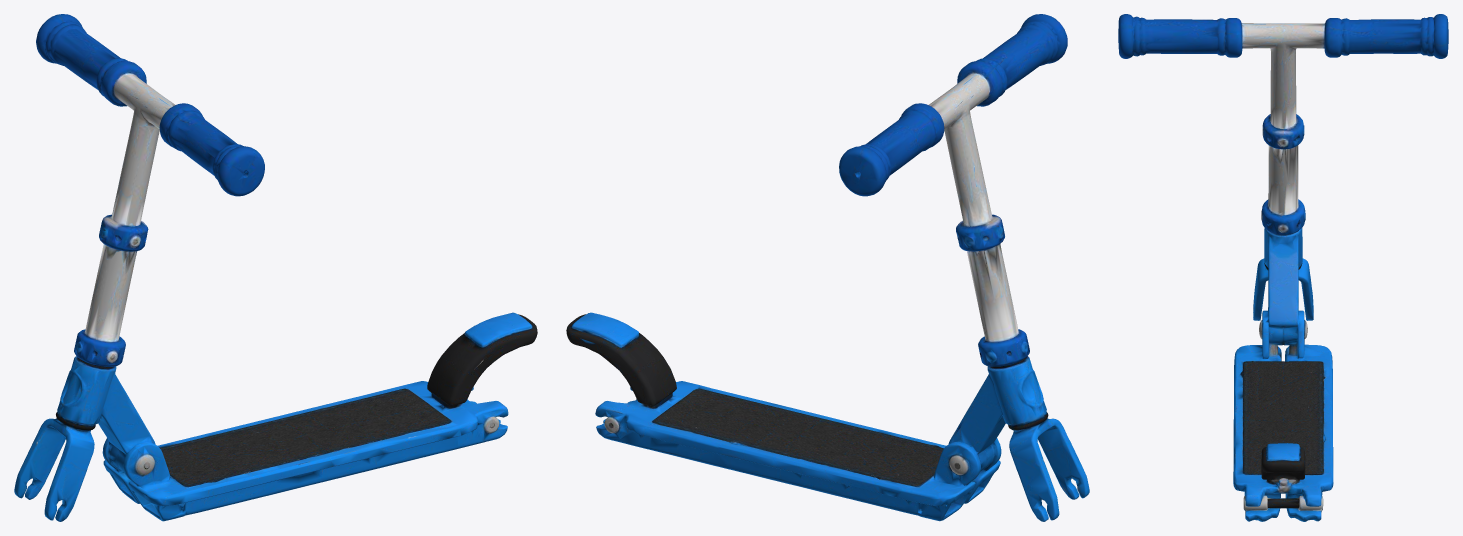
Rendered from scooter_blue.glb.
The picture shows the model from 3 angles, left to right: view 1: azimuth 30°, elevation 25°; view 2: azimuth 150°, elevation 25°; view 3: azimuth 270°, elevation 25°; orthographic projection. The views are drawn at different scales.
Size of the model in its own units: 1.9 by 1.54 by 1.26.
Materials: 1 (1 with a texture image).
